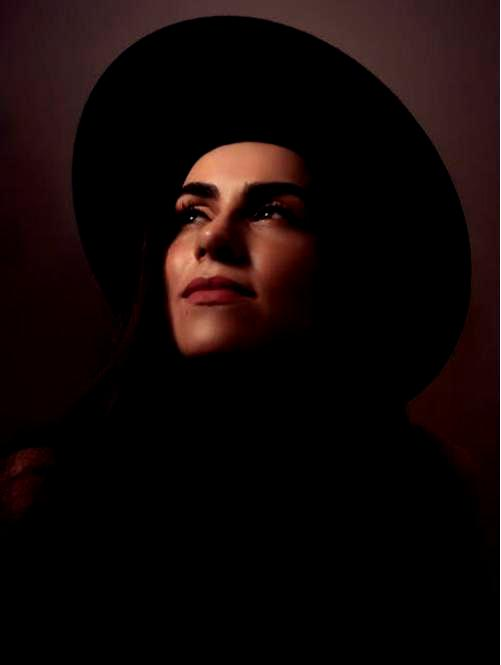face: (160, 143, 314, 360)
